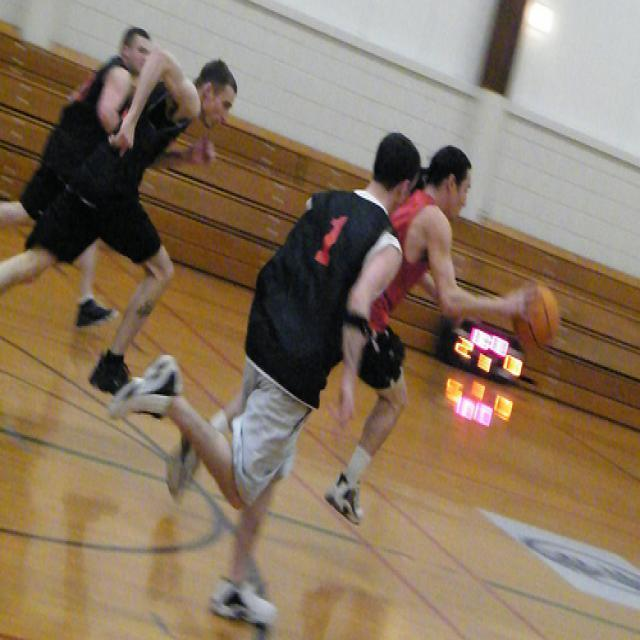basketball: (507, 276, 561, 356)
